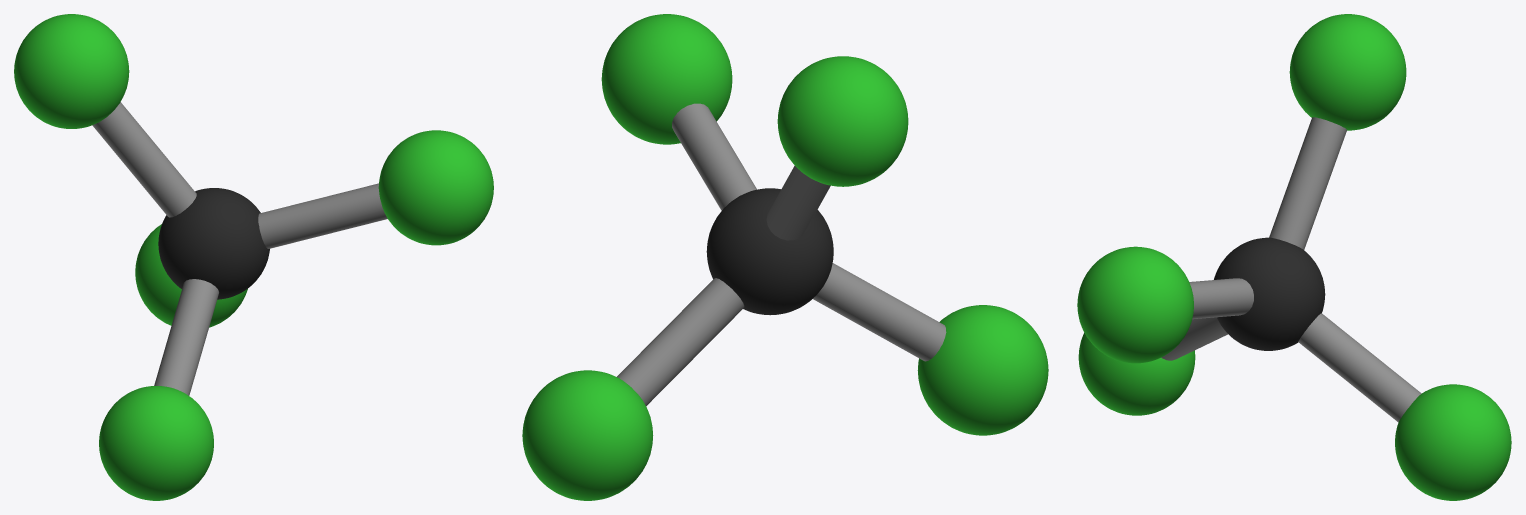
Rendered from tetrachlormethan.glb.
3 renders of one model, left to right at view 1: azimuth 30°, elevation 25°; view 2: azimuth 150°, elevation 25°; view 3: azimuth 270°, elevation 25°, orthographic. The views are drawn at different scales.
Parts seen in each view (by area): view 1: Cl_0, Cl_4, Cl_3, C_1, B0, B3, B2, Cl_2; view 2: Cl_4, Cl_2, Cl_3, Cl_0, C_1, B1, B2, B0, B3; view 3: Cl_0, Cl_2, Cl_4, C_1, Cl_3, B1, B3, B0, B2.
Part boxes in pixels (<box>): Cl_0: <box>378,130,493,245</box>; Cl_4: <box>14,14,129,128</box>; Cl_3: <box>99,386,213,500</box>; C_1: <box>158,188,269,299</box>; B0: <box>258,183,387,248</box>; B3: <box>92,102,196,217</box>; B2: <box>154,279,218,395</box>; Cl_2: <box>135,224,247,327</box>; Cl_4: <box>777,56,908,186</box>; Cl_2: <box>522,370,653,500</box>; Cl_3: <box>917,305,1048,435</box>; Cl_0: <box>601,14,732,144</box>; C_1: <box>706,188,833,315</box>; B1: <box>617,278,744,406</box>; B2: <box>813,263,946,361</box>; B0: <box>672,103,756,210</box>; B3: <box>766,166,830,240</box>; Cl_0: <box>1077,246,1193,363</box>; Cl_2: <box>1395,384,1511,500</box>; Cl_4: <box>1289,14,1406,130</box>; C_1: <box>1214,237,1325,350</box>; Cl_3: <box>1078,332,1195,415</box>; B1: <box>1298,313,1421,422</box>; B3: <box>1269,117,1346,249</box>; B0: <box>1189,278,1253,319</box>; B2: <box>1161,317,1227,360</box>.
Size of the model in its own units: 3.32 by 3.31 by 3.25.
